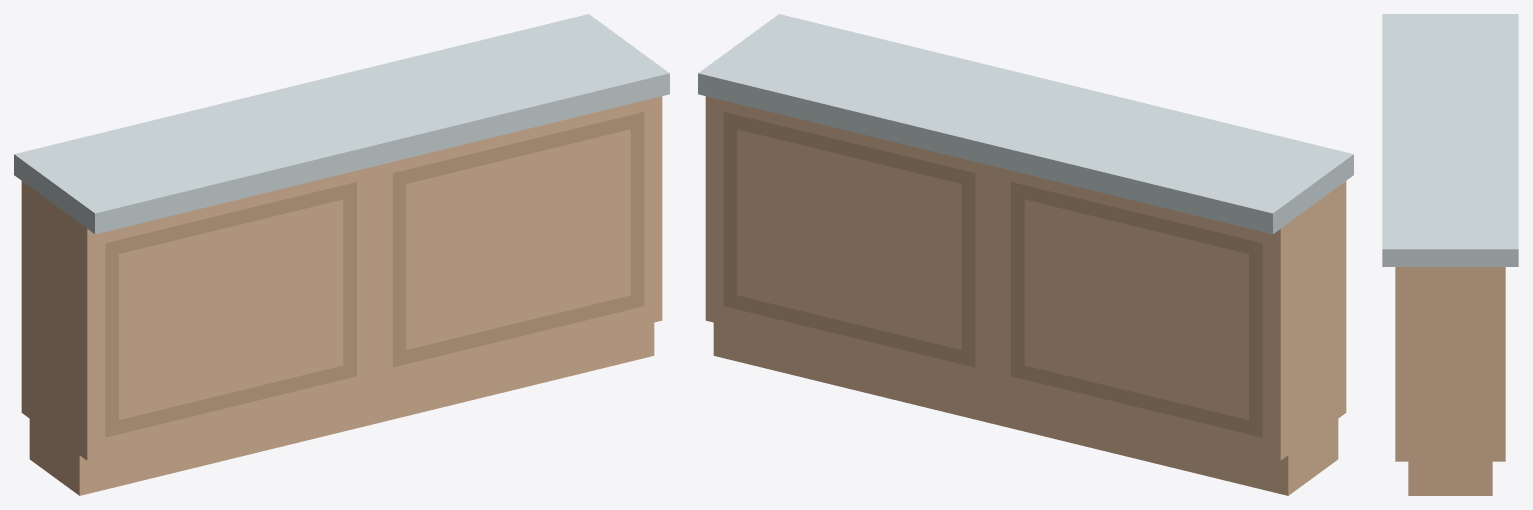
The model's file is kitchen_island.glb.
3 views of the same model, side by side, from view 1: azimuth 30°, elevation 25°; view 2: azimuth 150°, elevation 25°; view 3: azimuth 270°, elevation 25° (orthographic). The views are drawn at different scales.
Parts seen in each view (by area): view 1: kitchenBar(Clone) (×2); view 2: kitchenBar(Clone) (×2); view 3: kitchenBar(Clone) (×2).
Boxes of the visible parts, left/top/right/bottom form: kitchenBar(Clone) (×2): left=14, top=14, right=669, bottom=495; kitchenBar(Clone) (×2): left=698, top=14, right=1353, bottom=495; kitchenBar(Clone) (×2): left=1382, top=14, right=1518, bottom=495.
Size of the model in its own units: 1.76 by 0.861 by 0.4305.
